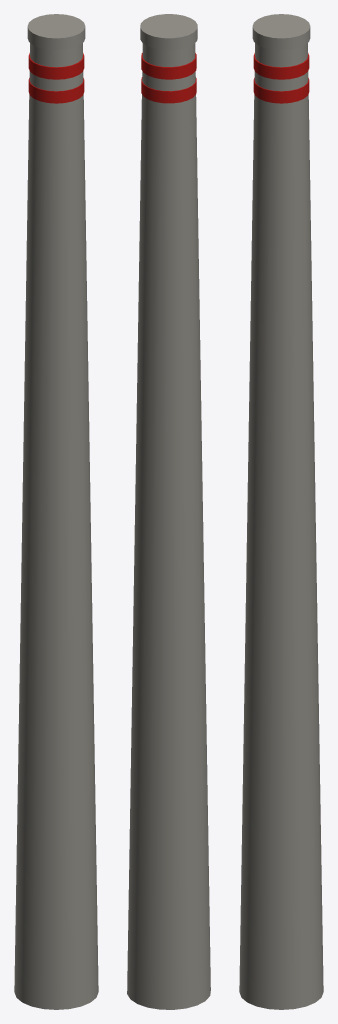
The model's file is industrial.process.chimney_stack.glb.
3 views of the same model, side by side, from view 1: azimuth 90°, elevation 25°; view 2: azimuth 150°, elevation 25°; view 3: azimuth 270°, elevation 25° (orthographic).
Visible parts, largest first — view 1: main__concrete, main__hazard_red; view 2: main__concrete, main__hazard_red; view 3: main__concrete, main__hazard_red.
Boxes of the visible parts, x1=… form: main__concrete: x1=14, y1=14, x2=98, y2=1009; main__hazard_red: x1=28, y1=53, x2=84, y2=103; main__concrete: x1=127, y1=14, x2=210, y2=1009; main__hazard_red: x1=141, y1=53, x2=196, y2=103; main__concrete: x1=239, y1=14, x2=323, y2=1009; main__hazard_red: x1=253, y1=53, x2=309, y2=103.
Size of the model in its own units: 3.2 by 40.5 by 3.2.
